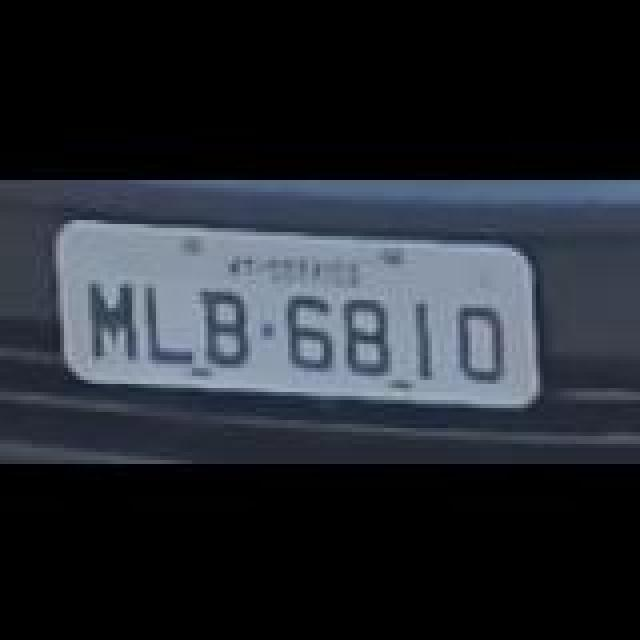1: (412, 298, 436, 374)
6: (282, 294, 342, 370)
8: (338, 298, 398, 374)
B: (198, 286, 258, 362)
D: (452, 300, 516, 380)
L: (142, 280, 202, 360)
M: (88, 278, 144, 362)
